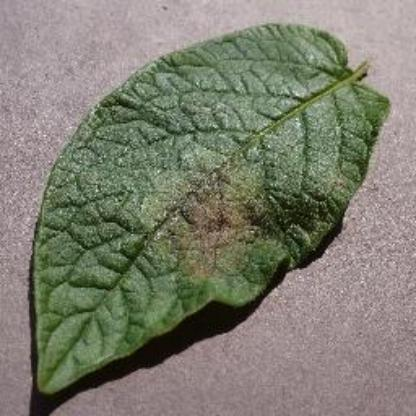Late-Blight: (23, 20, 397, 398)
